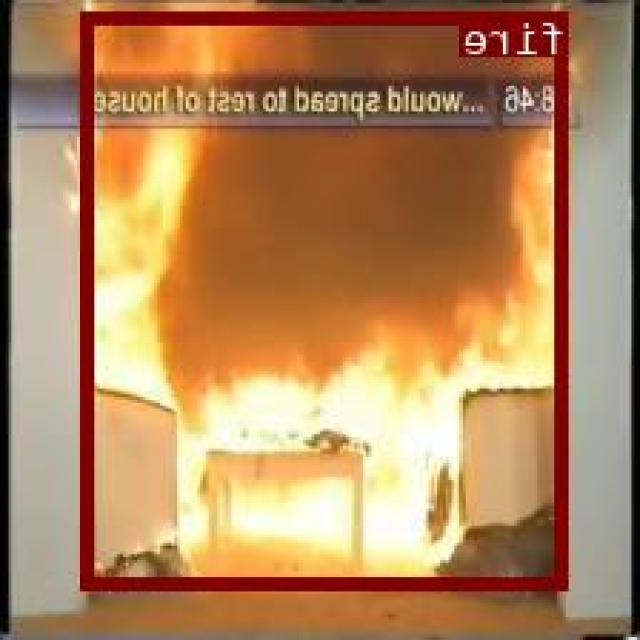fire: (85, 10, 570, 587)
